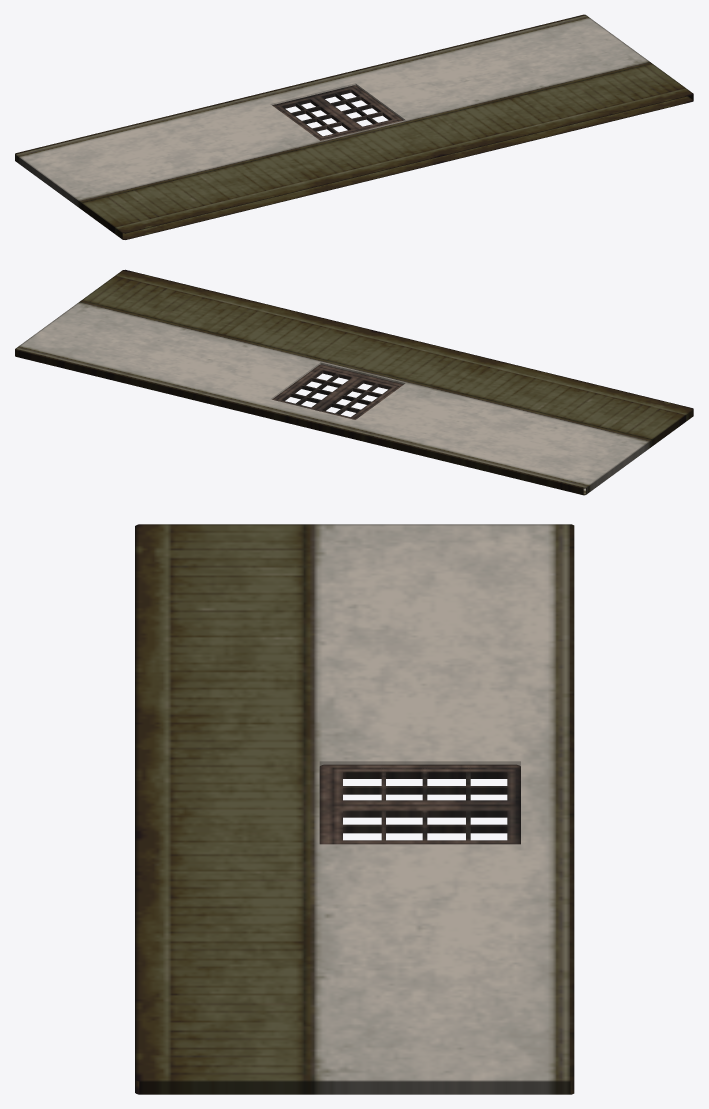
The model's file is SM_EC_House_Wall_Window_0_9x3_1.fbx.
3 renders of one model, top to bottom at view 1: azimuth 30°, elevation 25°; view 2: azimuth 150°, elevation 25°; view 3: azimuth 270°, elevation 25°, orthographic. The views are drawn at different scales.
Visible parts, largest first — view 1: SM_EC_House_Wall_Window_0_9x3_1; view 2: SM_EC_House_Wall_Window_0_9x3_1; view 3: SM_EC_House_Wall_Window_0_9x3_1.
Part boxes in pixels (x1,y1,x2,y2): SM_EC_House_Wall_Window_0_9x3_1: (15, 14, 693, 239); SM_EC_House_Wall_Window_0_9x3_1: (15, 269, 693, 495); SM_EC_House_Wall_Window_0_9x3_1: (135, 524, 574, 1094).
Size of the model in its own units: 9 by 3 by 0.1.
